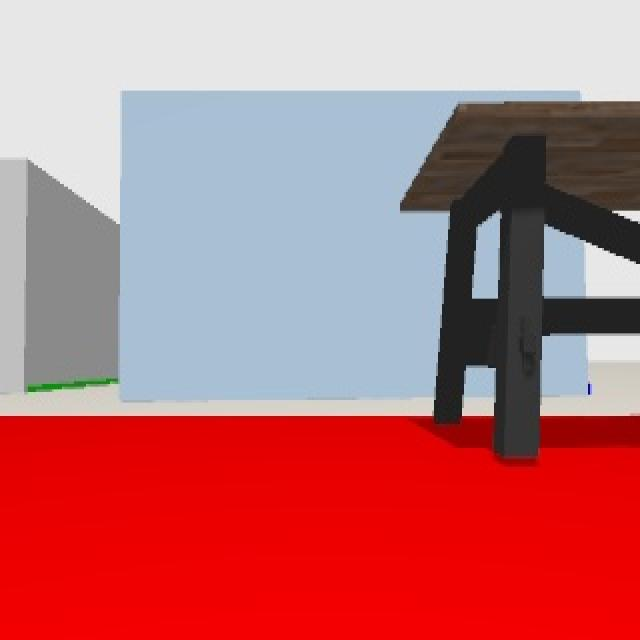dining: (392, 96, 640, 464)
